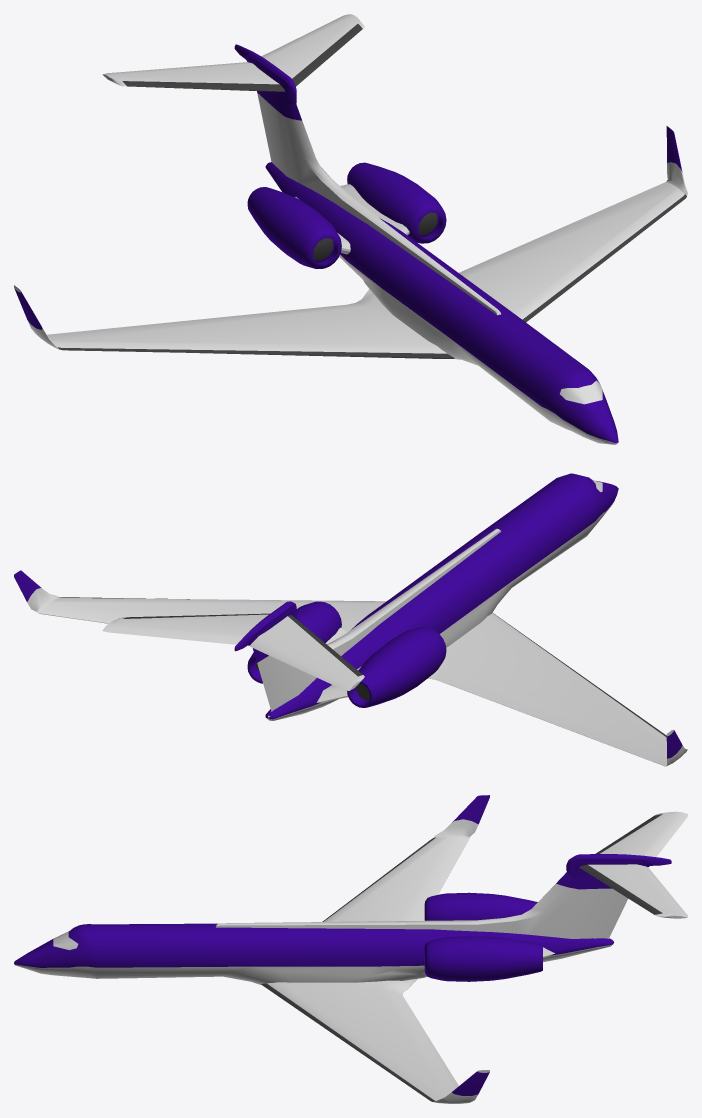
Rendered from gulfstream.lod1.glb.
The picture shows the model from 3 angles, top to bottom: view 1: azimuth 30°, elevation 25°; view 2: azimuth 150°, elevation 25°; view 3: azimuth 270°, elevation 25°; orthographic projection. The views are drawn at different scales.
Parts seen in each view (by area): view 1: Object_4, Object_5, Object_8; view 2: Object_4, Object_5, Object_8; view 3: Object_4, Object_5, Object_8.
Part boxes in pixels (x1,y1,x2,y2): Object_4: (14,14,687,444); Object_5: (14,44,682,442); Object_8: (57,24,686,358); Object_4: (17,479,687,766); Object_5: (14,473,682,758); Object_8: (58,597,666,737); Object_4: (14,811,687,1103); Object_5: (14,795,671,1095); Object_8: (261,814,662,1101).
Size of the model in its own units: 28.94 by 6.47 by 30.
